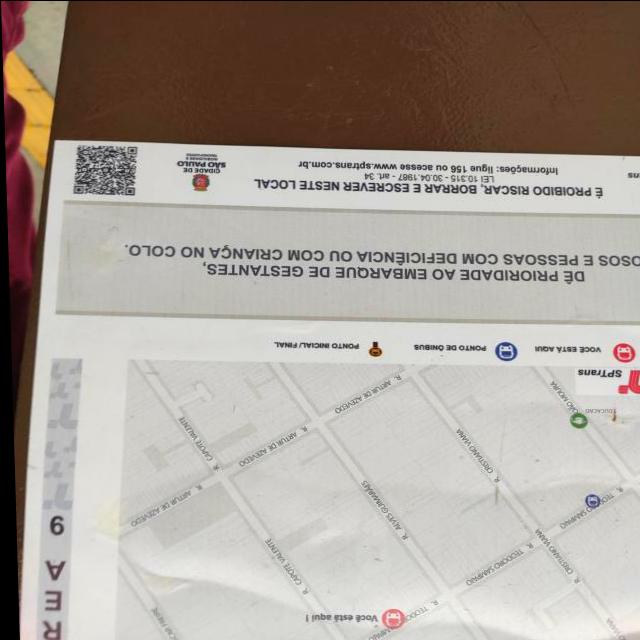qrcode: (71, 145, 138, 195)
